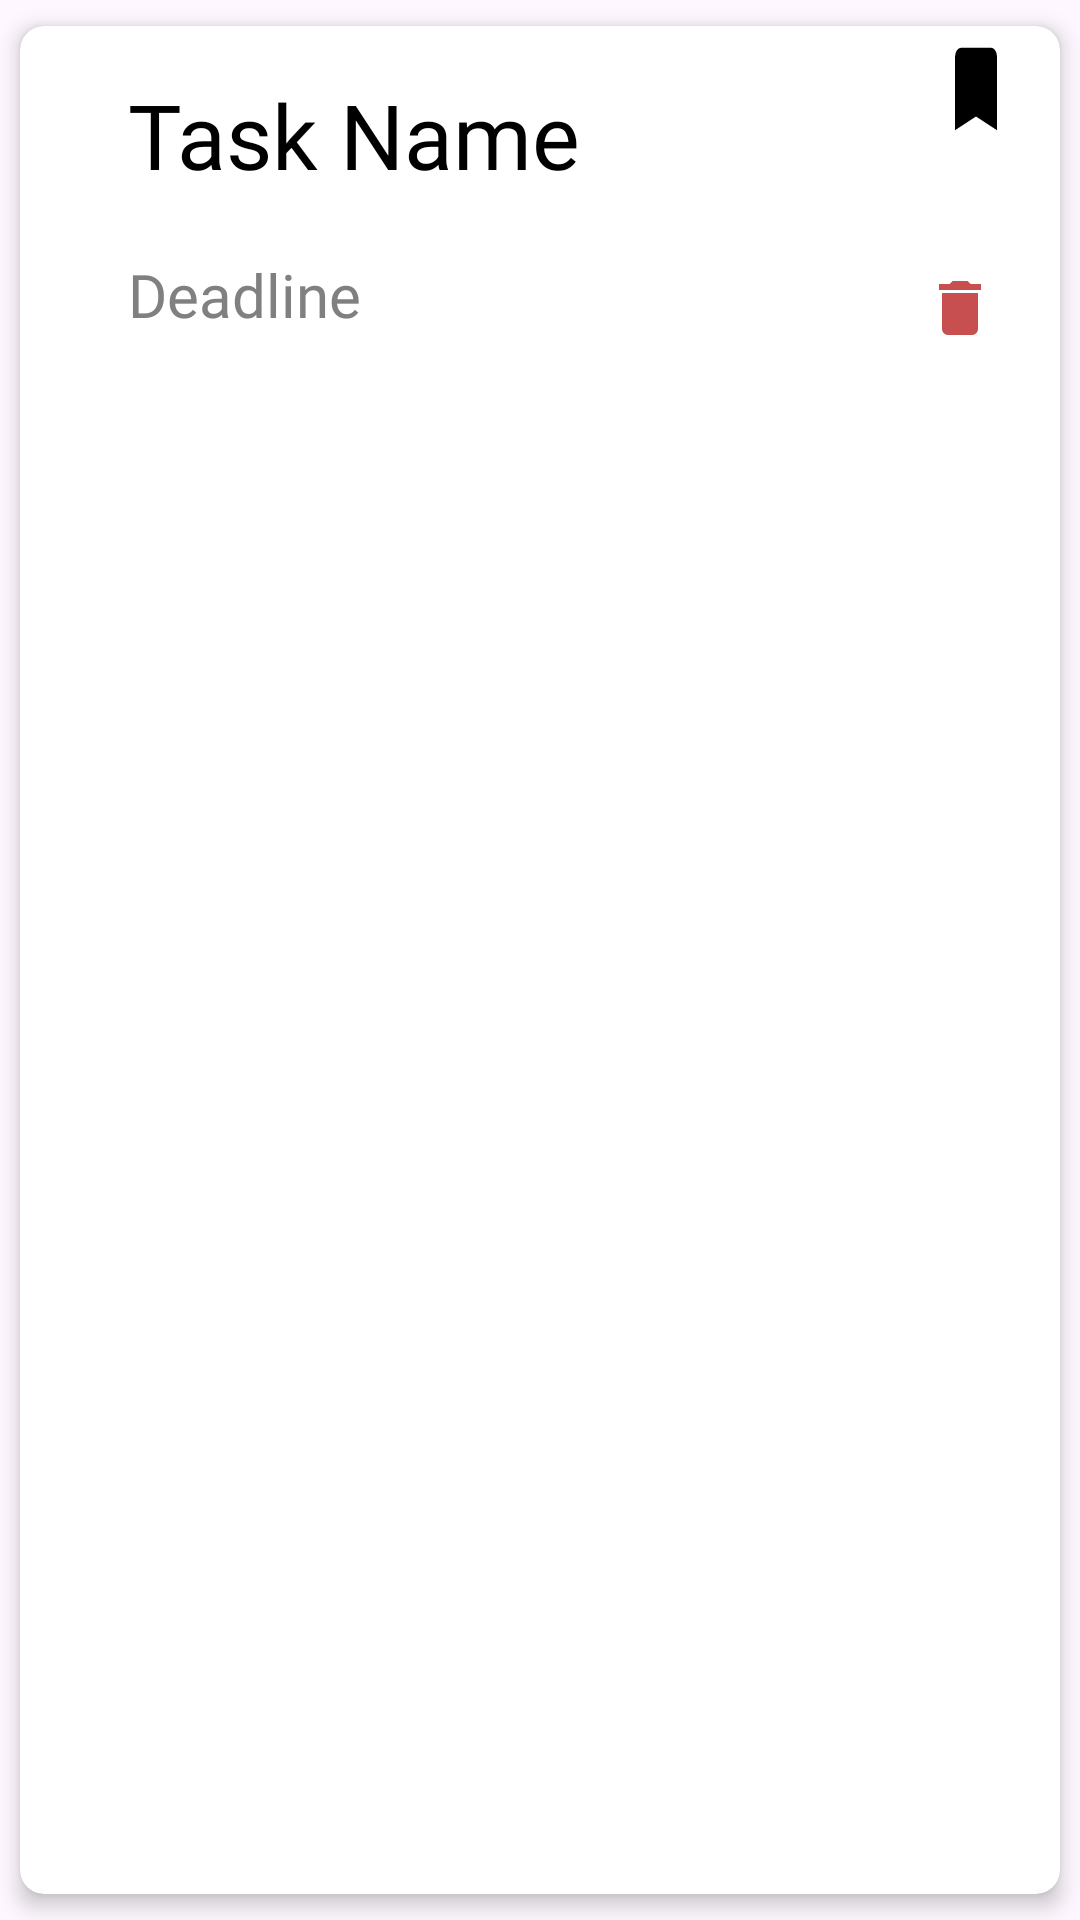

Screen size 1080 x 1920. Icon name, then its center in pixels as point (x, y):
bookmark: point (976, 88)
delete: point (960, 308)
